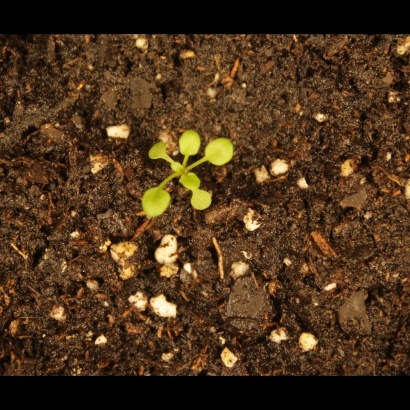leaf: (136, 181, 176, 223), (203, 133, 240, 170), (184, 188, 219, 217), (177, 126, 205, 161), (146, 137, 175, 165), (180, 171, 203, 194)
